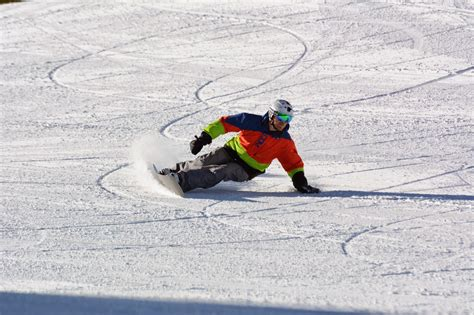snowboarder: (143, 92, 325, 205)
